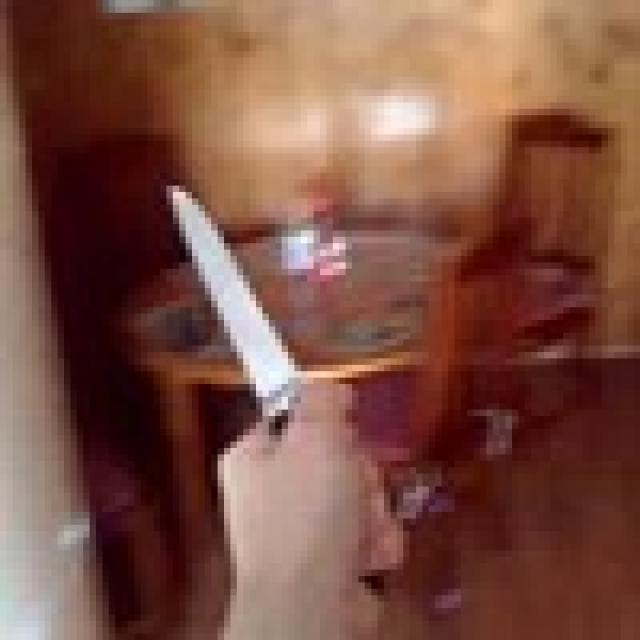Knife: (167, 186, 390, 570)
